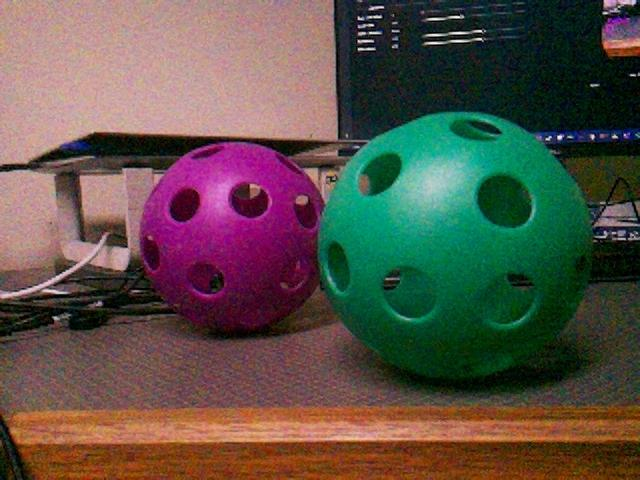Green: (318, 114, 593, 379)
Purple: (137, 142, 327, 333)
